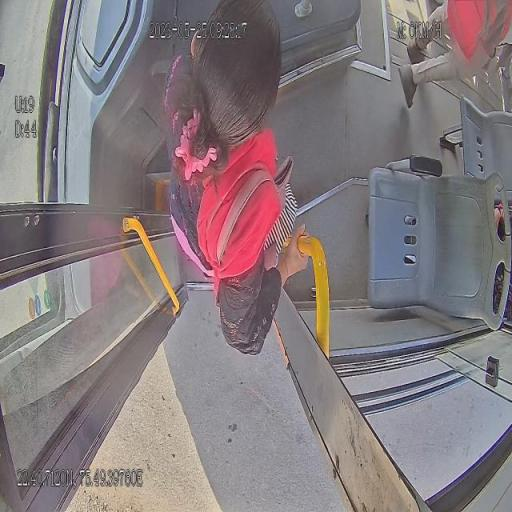persona: (162, 0, 312, 358)
